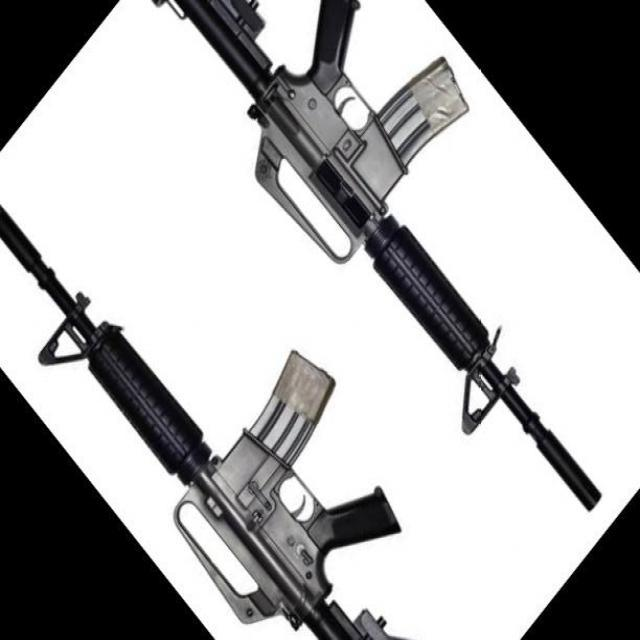weapon: (152, 0, 604, 516), (0, 205, 402, 640)
